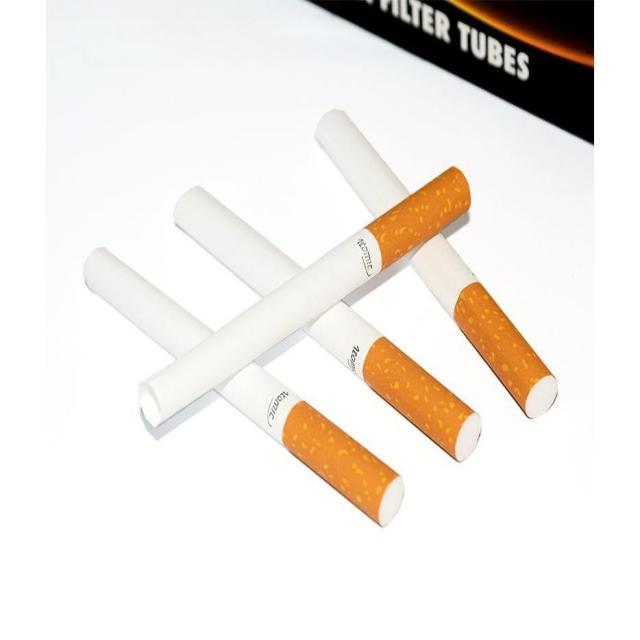cigarette: (138, 168, 471, 430), (214, 363, 404, 528), (407, 232, 559, 420), (303, 303, 482, 462), (83, 249, 215, 360), (173, 186, 303, 298), (314, 110, 410, 219)
